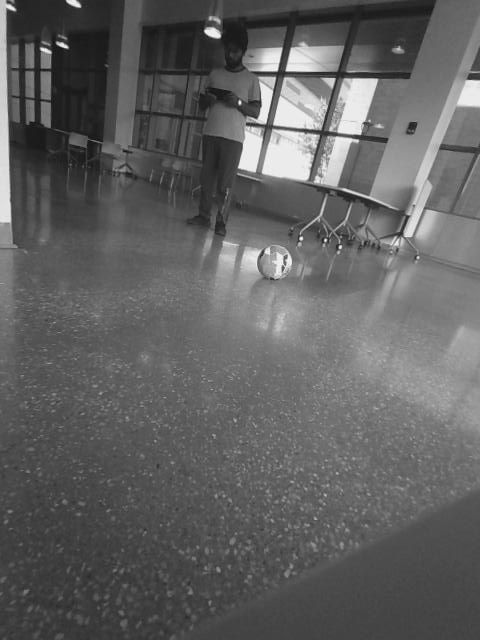ball: (255, 242, 296, 282)
